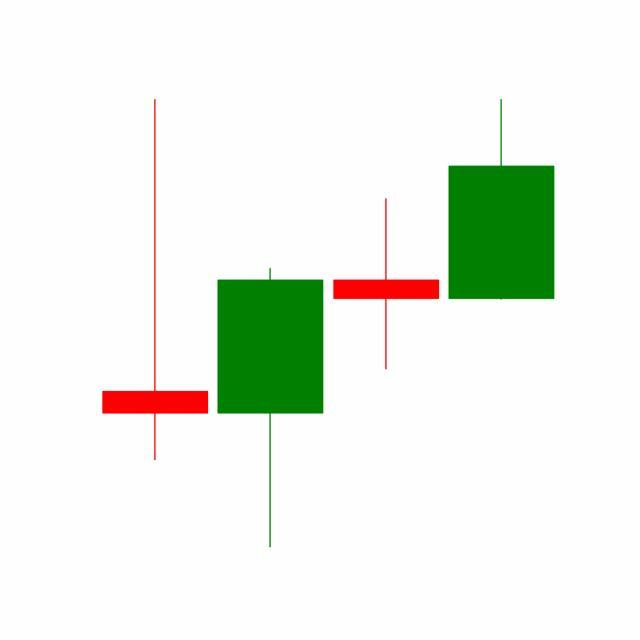Spinning Top: (329, 197, 445, 372)
